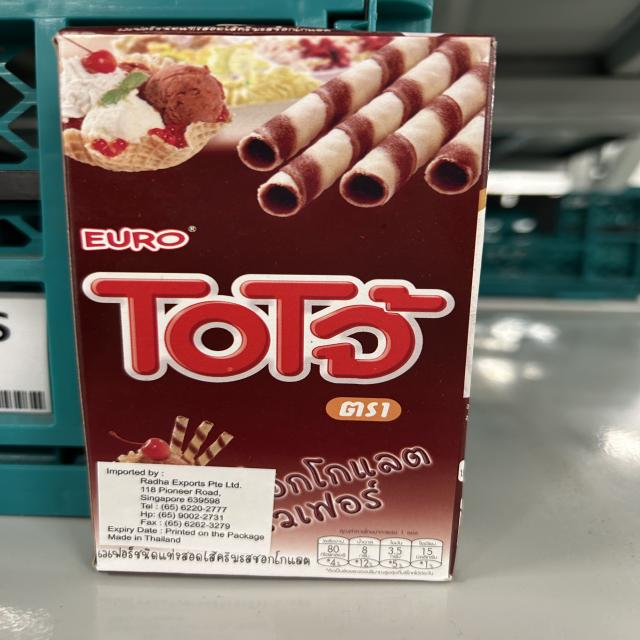object_name: (66, 30, 466, 578)
